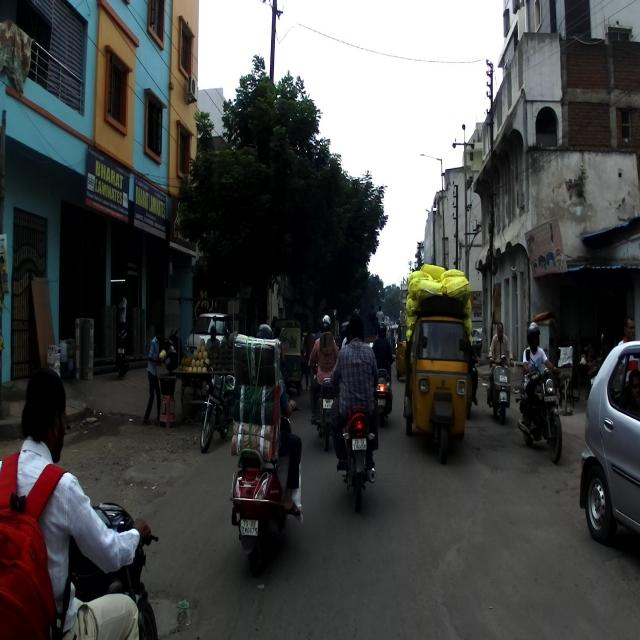autorickshaw: (403, 263, 473, 464)
car: (578, 339, 640, 544)
motorcycle: (331, 376, 380, 512), (515, 348, 563, 464), (198, 358, 236, 452)
scooter: (229, 394, 302, 576), (368, 341, 397, 428), (482, 354, 514, 425)
